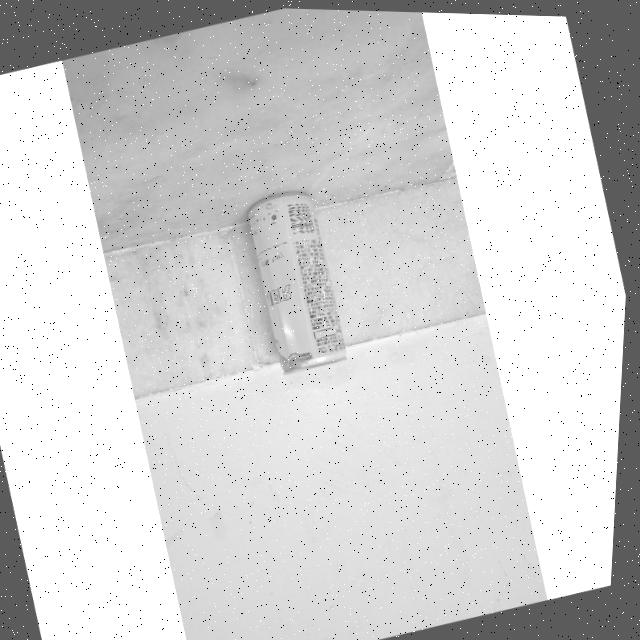Redbull Summer Edition: (234, 178, 368, 379)
